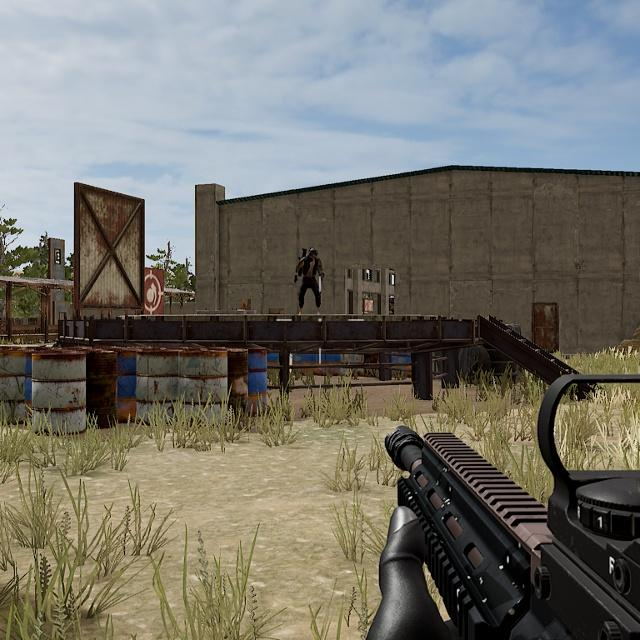head: (304, 244, 322, 264)
people: (289, 241, 332, 318)
